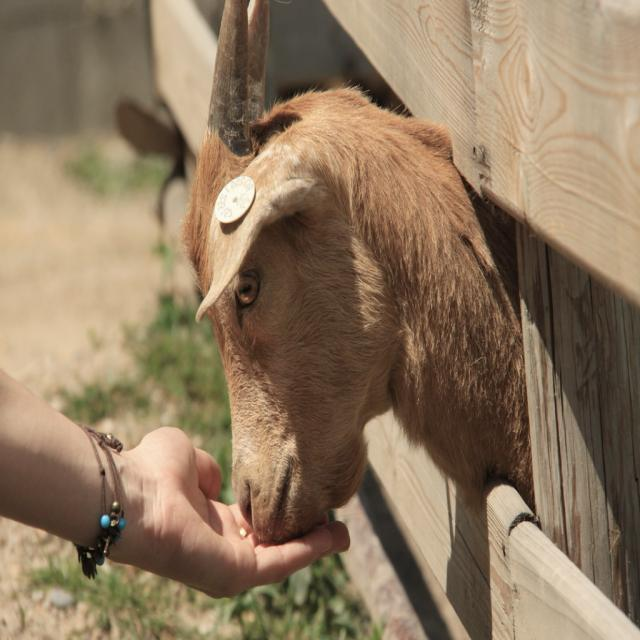Goat: (178, 0, 538, 545)
